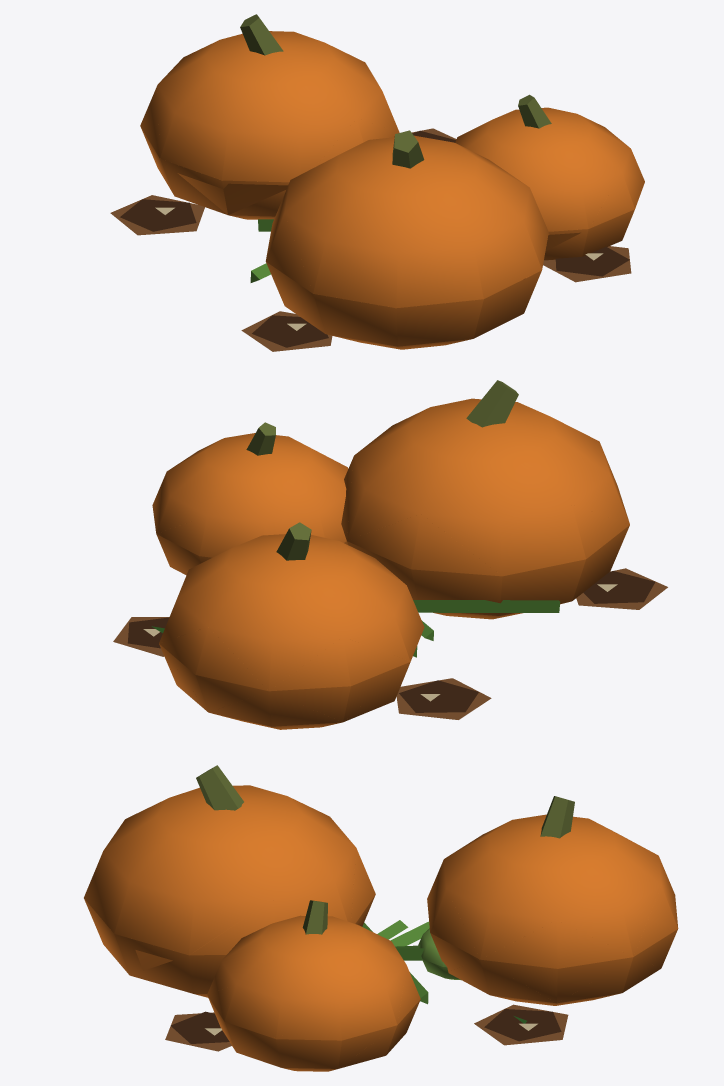
File: pumpkin.glb
3 renders of one model, top to bottom at view 1: azimuth 30°, elevation 25°; view 2: azimuth 150°, elevation 25°; view 3: azimuth 270°, elevation 25°, orthographic. The views are drawn at different scales.
Parts seen in each view (by area): view 1: crop-pumpkin-3, crop-pumpkin-0, crop-pumpkin-3-far; view 2: crop-pumpkin-3, crop-pumpkin-0; view 3: crop-pumpkin-3, crop-pumpkin-0, crop-pumpkin-2.
Boxes of the visible parts, x1,y1,x2,y2 form: crop-pumpkin-3: [140, 14, 644, 349]; crop-pumpkin-0: [110, 128, 631, 351]; crop-pumpkin-3-far: [177, 173, 580, 250]; crop-pumpkin-3: [152, 380, 629, 729]; crop-pumpkin-0: [113, 568, 667, 719]; crop-pumpkin-3: [84, 765, 678, 1071]; crop-pumpkin-0: [165, 1004, 568, 1051]; crop-pumpkin-2: [395, 928, 461, 980].
Size of the model in its own units: 1.72 by 0.5655 by 1.78.
